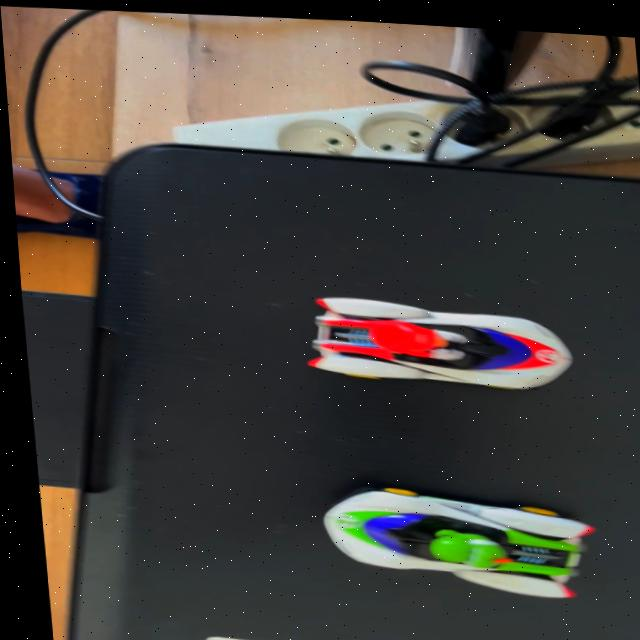mario: (289, 280, 589, 398)
yoshi: (291, 463, 610, 611)
